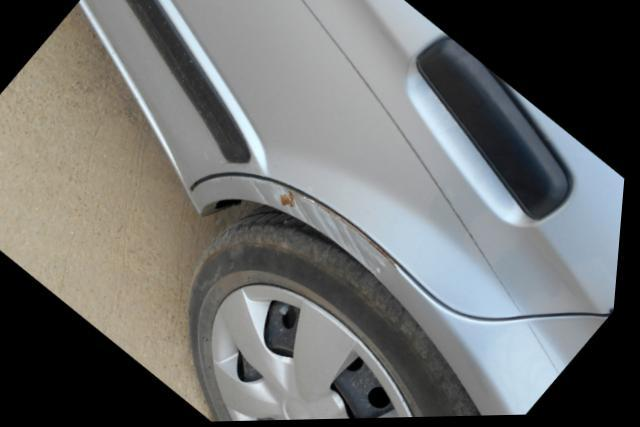scratch: (299, 0, 529, 312), (263, 180, 403, 275), (530, 324, 567, 379)
